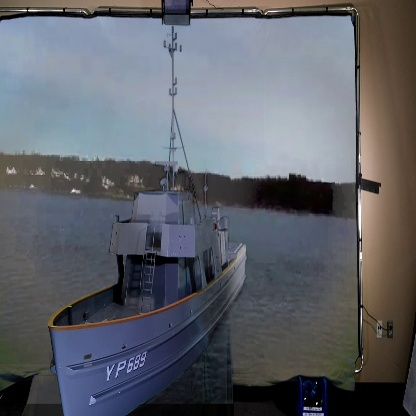YP689: (39, 25, 249, 415)
